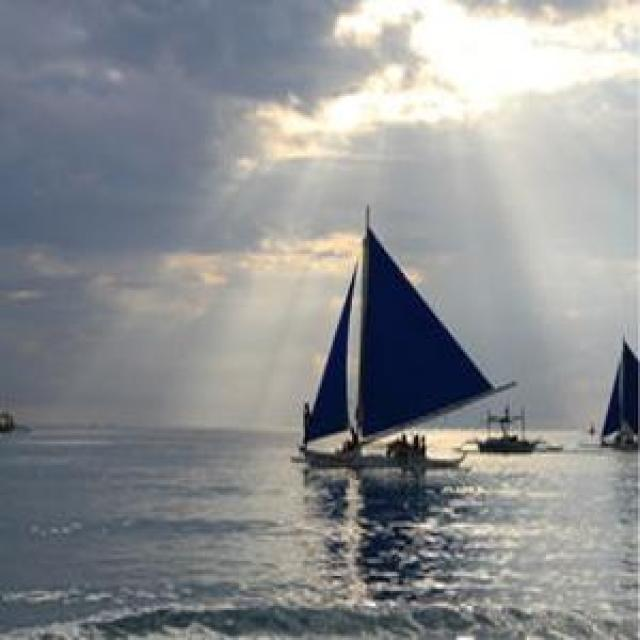sailboat: (288, 202, 492, 475), (591, 331, 640, 452)
